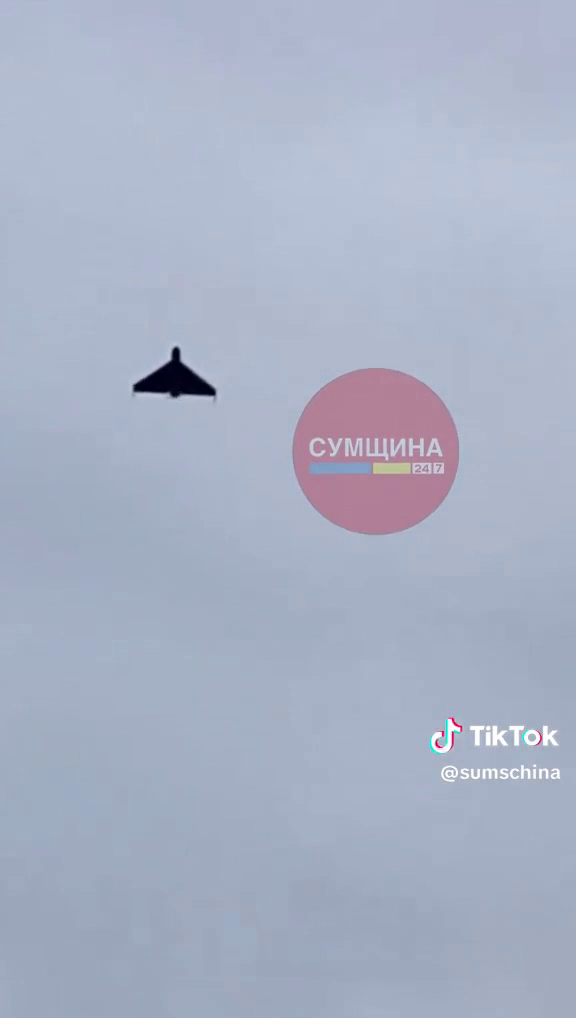shahed: (120, 340, 230, 414)
